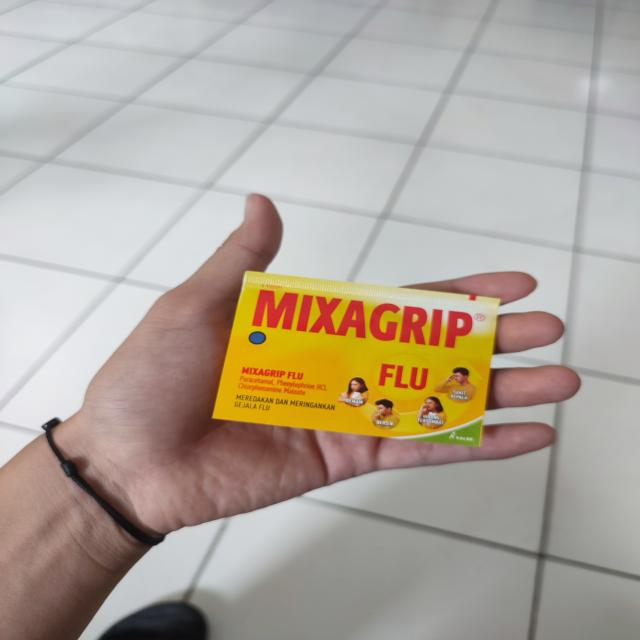B3: (214, 268, 501, 448)
